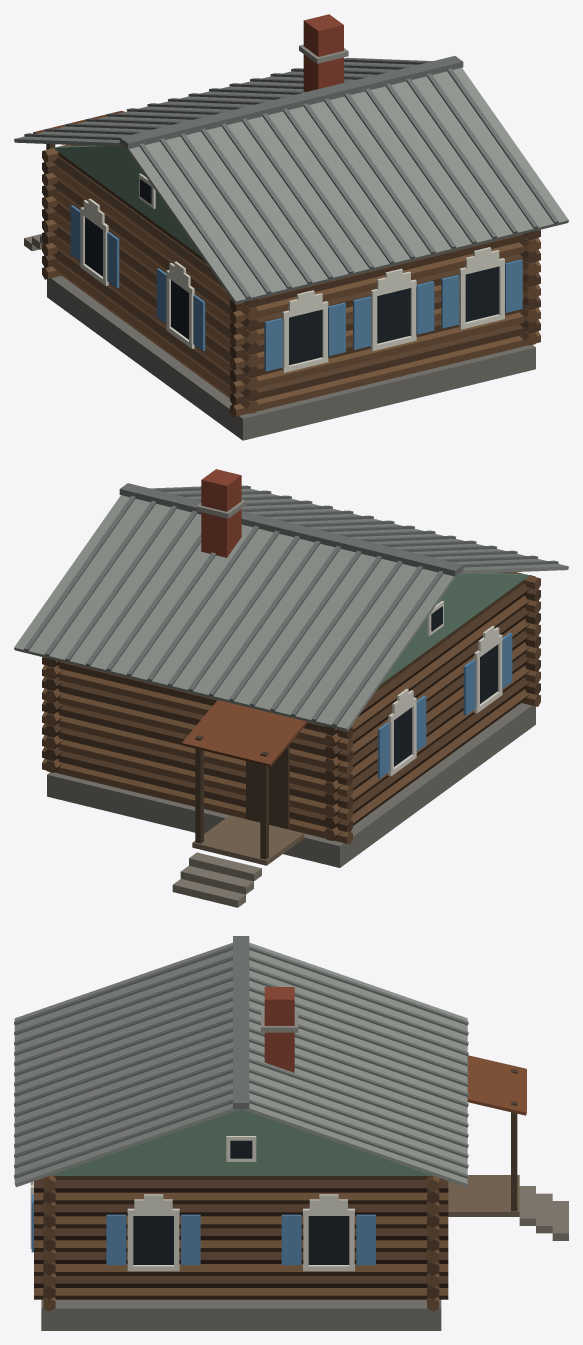
File: изба.glb
3 renders of one model, top to bottom at view 1: azimuth 30°, elevation 25°; view 2: azimuth 150°, elevation 25°; view 3: azimuth 270°, elevation 25°, orthographic. The views are drawn at different scales.
Parts seen in each view (by area): view 1: изба; view 2: изба; view 3: изба.
Boxes of the visible parts, <box> form: изба: <box>14,14,568,440</box>; изба: <box>14,469,568,907</box>; изба: <box>14,936,568,1330</box>.
Bounding box in the file's own units: 7.21 × 5.92 × 10.13.
